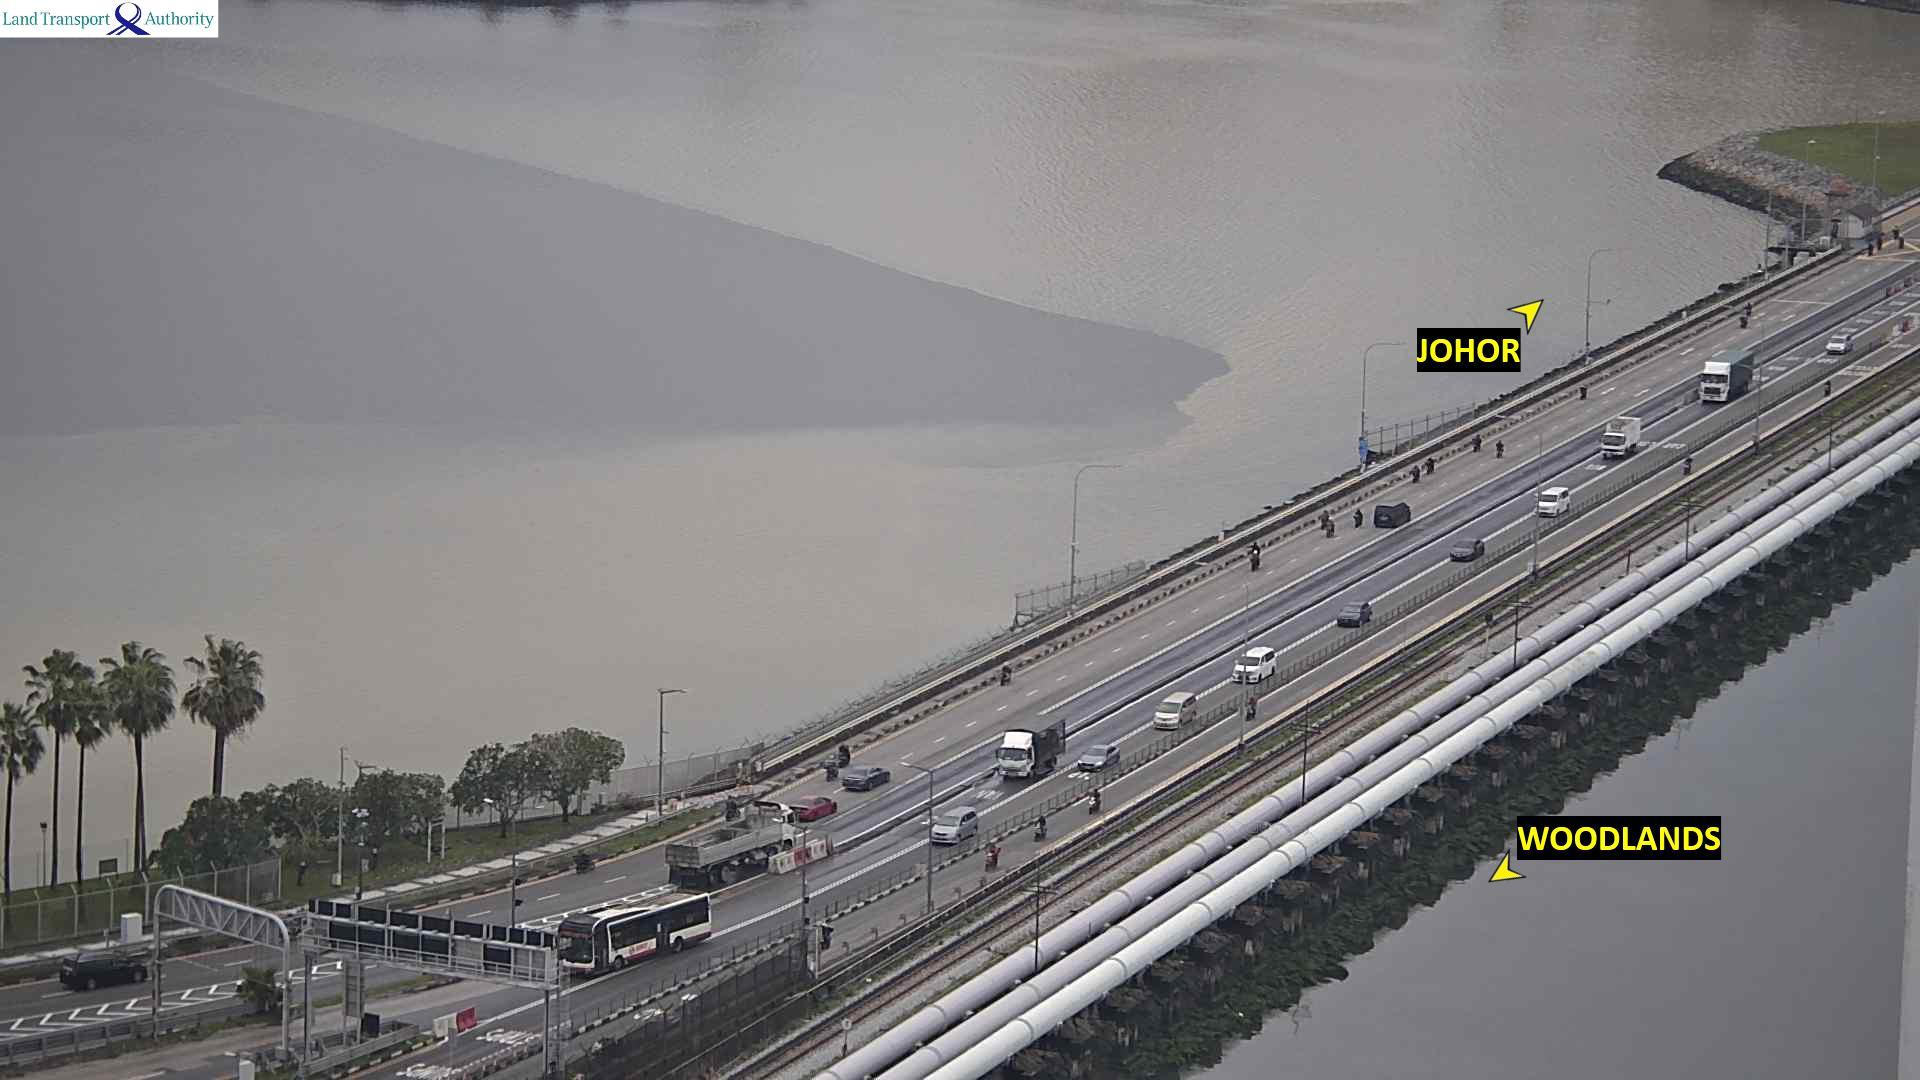vehicle-causeway-johor: (669, 802, 794, 881), (65, 949, 150, 992), (783, 799, 837, 825), (841, 766, 893, 793), (1375, 504, 1411, 525), (575, 848, 597, 874), (1249, 541, 1259, 570), (837, 742, 852, 764), (1001, 661, 1011, 687), (825, 754, 836, 779), (512, 877, 525, 897), (1735, 306, 1749, 326), (1425, 455, 1436, 475), (1495, 440, 1506, 458), (1354, 508, 1362, 526), (1473, 434, 1481, 451), (1327, 521, 1335, 537), (1411, 464, 1418, 483), (1580, 385, 1588, 400), (1320, 510, 1328, 525)
vehicle-causeway-singapore: (560, 897, 723, 984), (994, 723, 1065, 782), (1696, 348, 1758, 404), (1154, 695, 1201, 732), (931, 807, 976, 845), (1232, 646, 1276, 682), (1602, 418, 1639, 460), (1079, 744, 1120, 770), (1336, 600, 1371, 626), (1539, 487, 1569, 514), (1452, 539, 1485, 559), (982, 843, 1001, 870), (1826, 335, 1851, 355), (1088, 785, 1104, 812), (1242, 695, 1258, 721), (1034, 815, 1047, 839), (1683, 455, 1692, 473), (1822, 380, 1830, 398)
